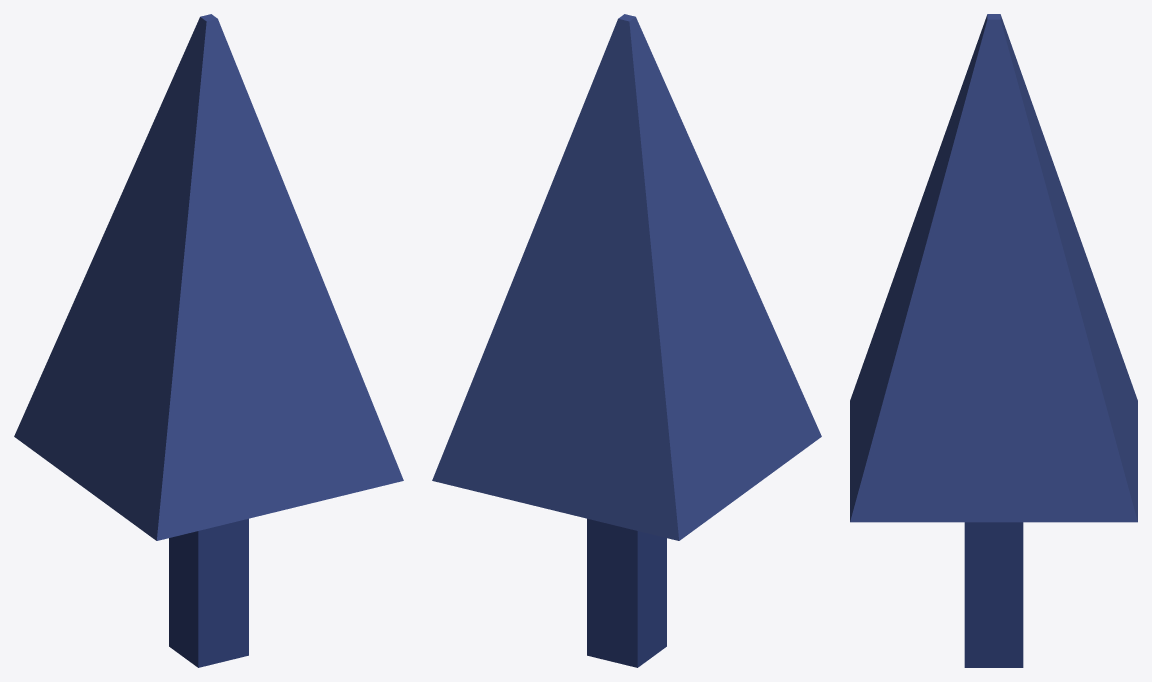
File: SM_Prop_Tree_Pine_01.fbx
3 views of the same model, side by side, from view 1: azimuth 30°, elevation 25°; view 2: azimuth 150°, elevation 25°; view 3: azimuth 270°, elevation 25° (orthographic).
Parts seen in each view (by area): view 1: SM_Prop_Tree_Pine_01; view 2: SM_Prop_Tree_Pine_01; view 3: SM_Prop_Tree_Pine_01.
Boxes of the visible parts, <box> form: SM_Prop_Tree_Pine_01: <box>14,14,403,667</box>; SM_Prop_Tree_Pine_01: <box>432,14,821,667</box>; SM_Prop_Tree_Pine_01: <box>850,14,1137,667</box>.
Size of the model in its own units: 105 by 256 by 105.
